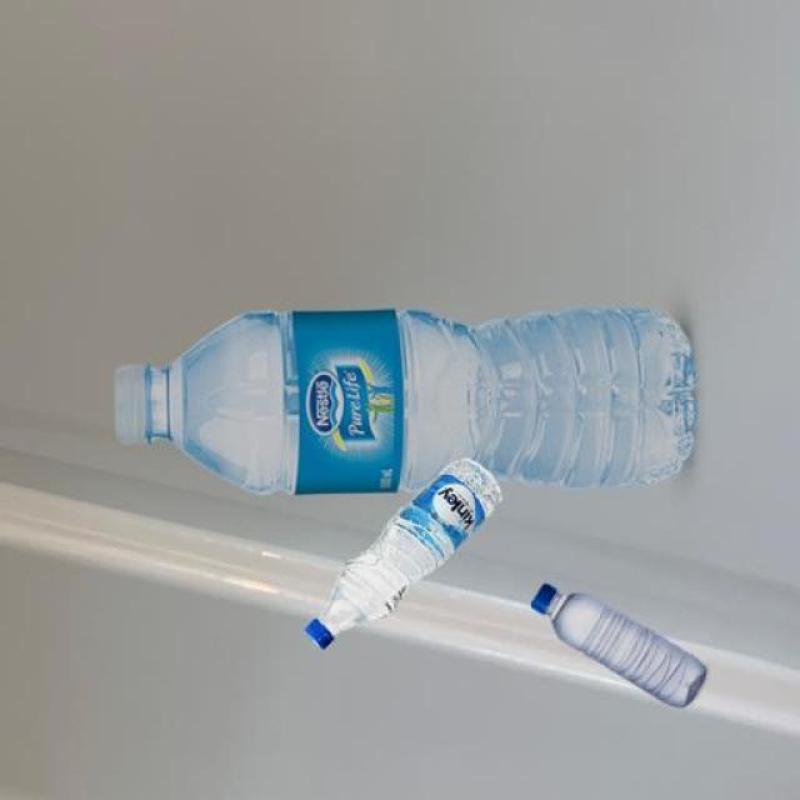botella: (113, 313, 695, 493), (308, 458, 502, 648), (530, 582, 709, 710)
